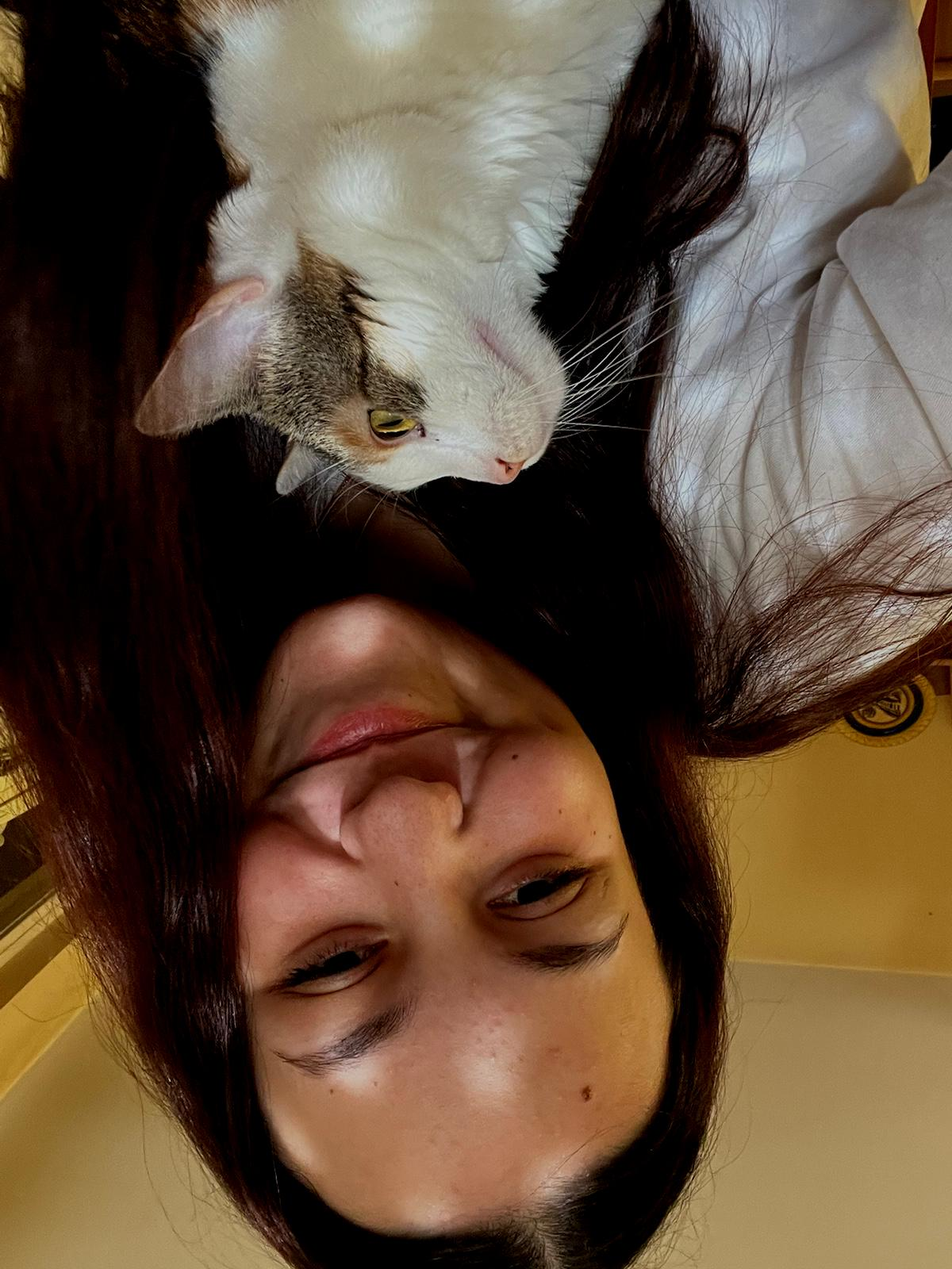macka: (123, 1, 653, 490)
